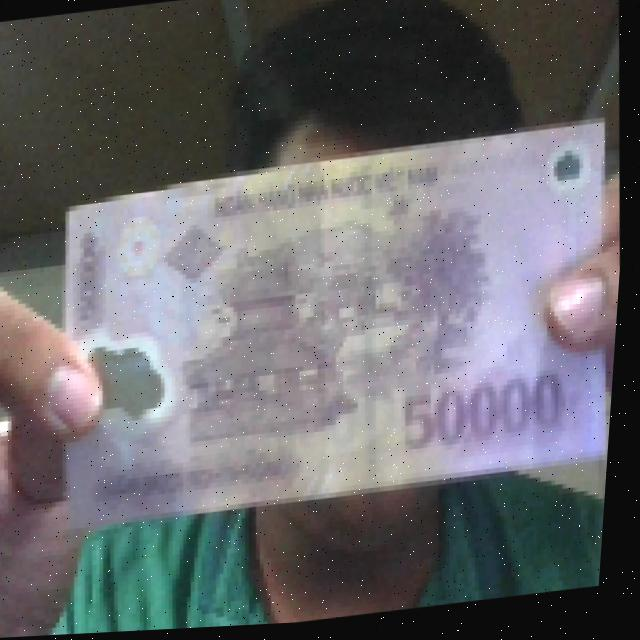50 000 VND: (38, 117, 633, 537)
